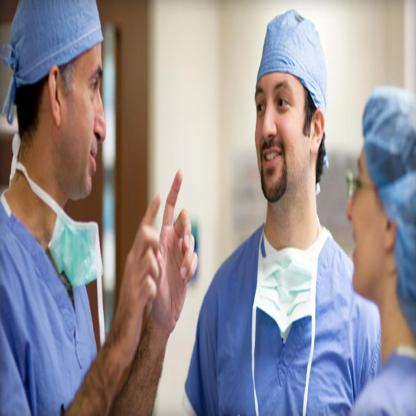face: (63, 36, 107, 198), (258, 60, 312, 189), (348, 142, 384, 296)
